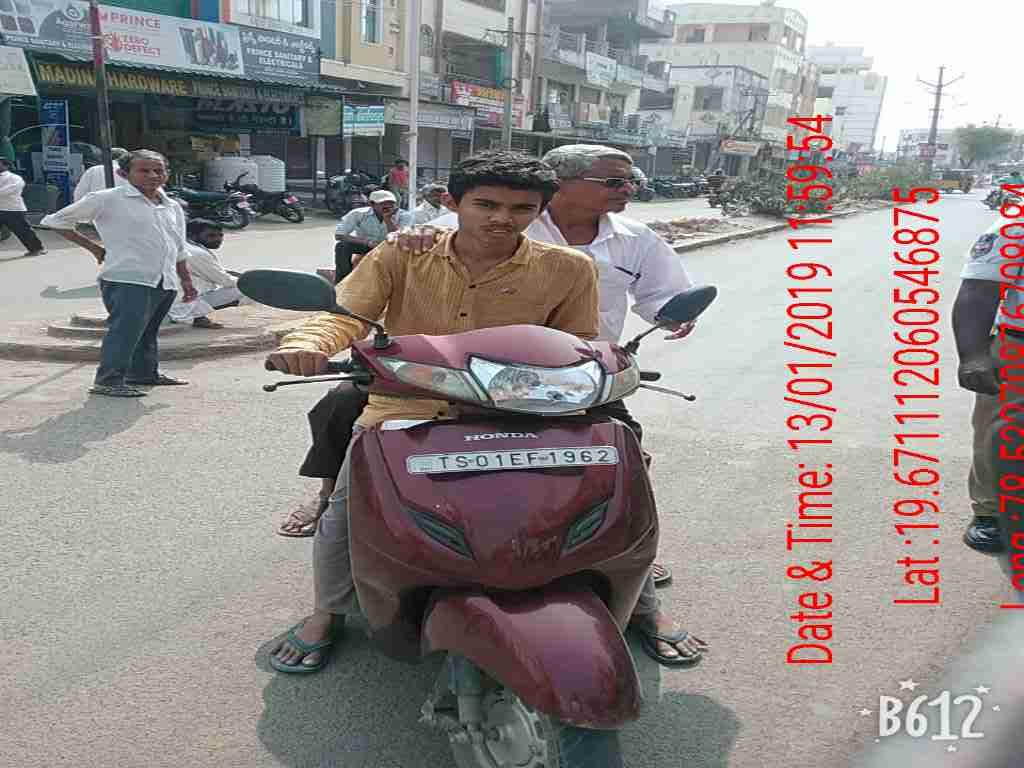plate: (404, 444, 623, 475)
